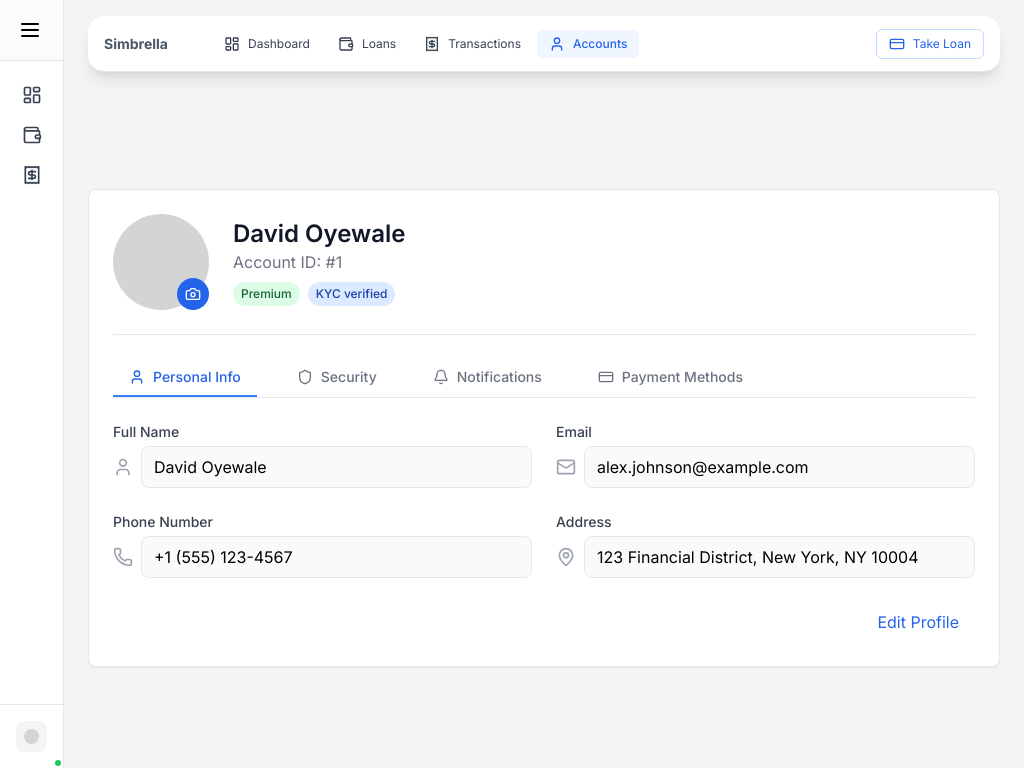
Test case: Account Page › Payment Methods Tab › displays payment methods correctly
Note: Switch to Payment Methods tab
Click the button "Payment Methods".
click(670, 378)  # box [582, 359, 759, 397]
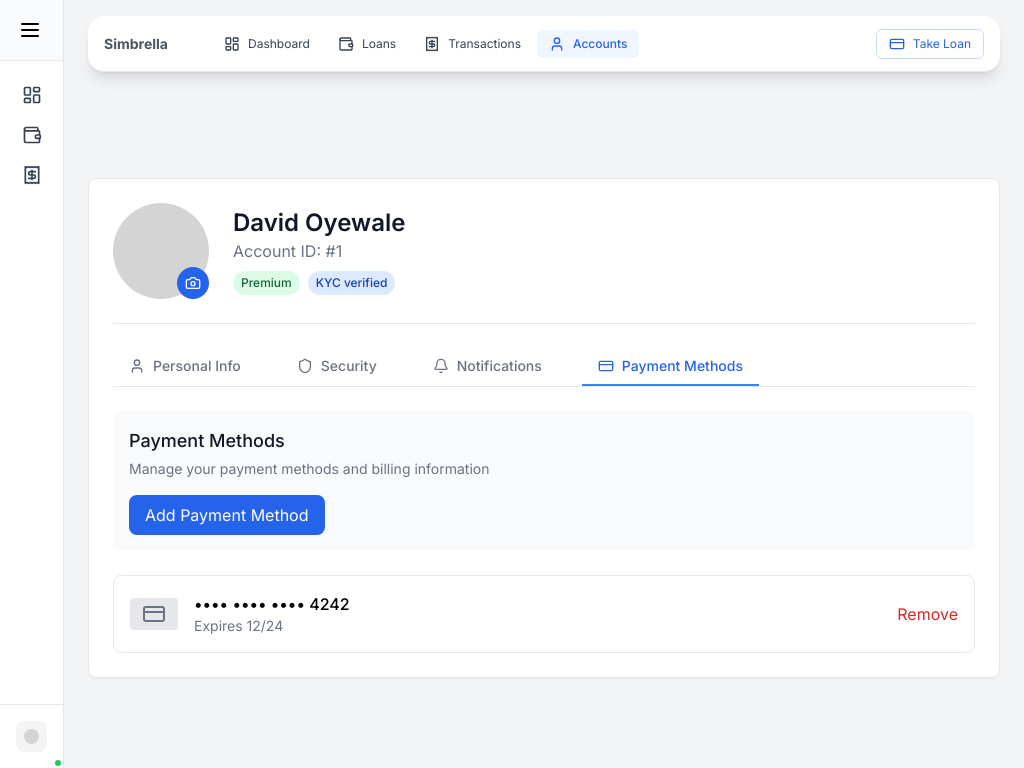
Expected: the text "•••• •••• •••• 4242" is shown, [194, 592, 350, 616]
Expected: the text "Expires 12/24" is shown, [194, 617, 283, 634]
